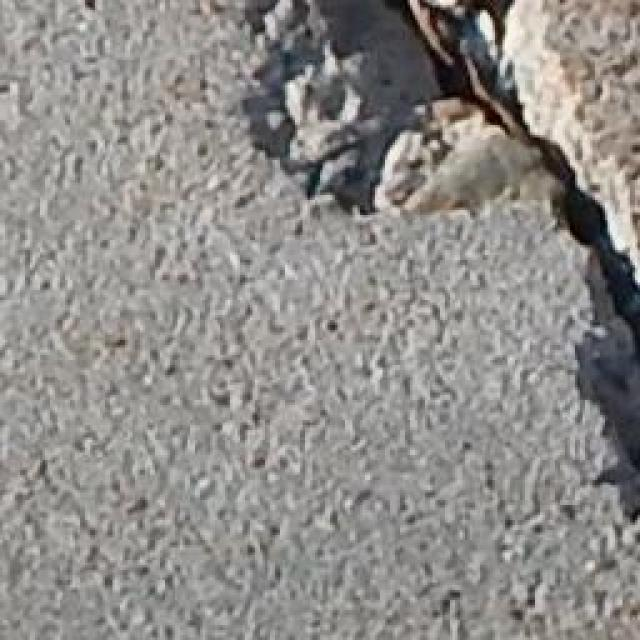concrete-crack: (237, 0, 640, 529)
